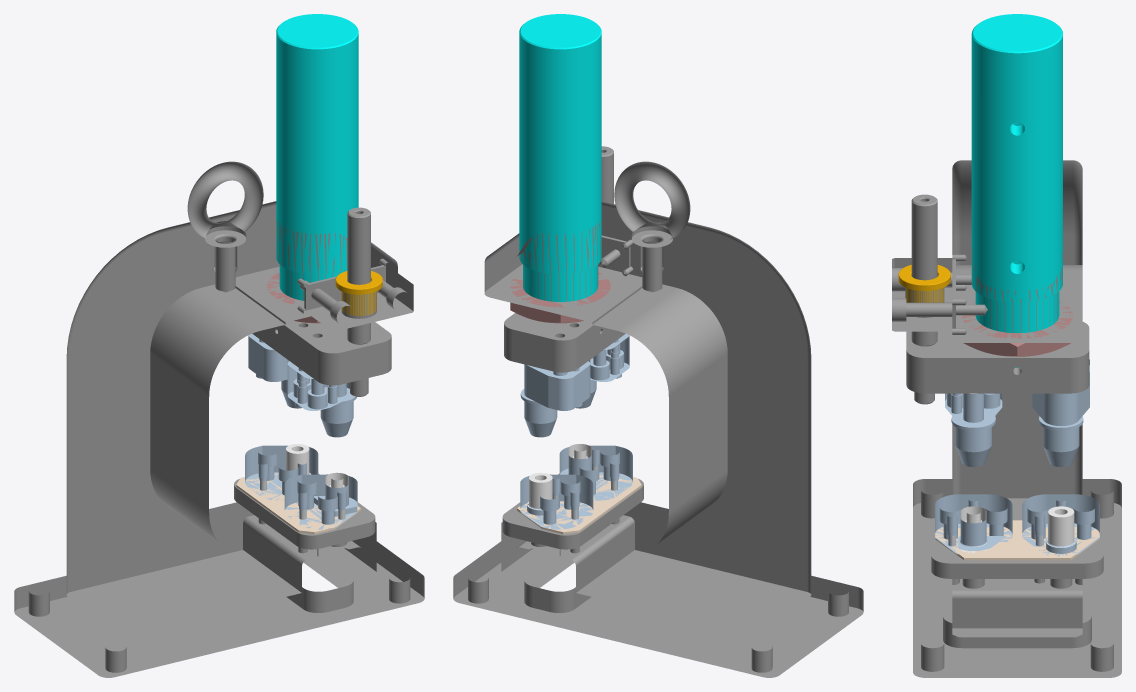
Rendered from hydraulic_press_detail.glb.
The picture shows the model from 3 angles, left to right: view 1: azimuth 30°, elevation 25°; view 2: azimuth 150°, elevation 25°; view 3: azimuth 270°, elevation 25°; orthographic projection. The views are drawn at different scales.
Parts seen in each view (by area): view 1: Hydraulic Twin Punch Press; view 2: Hydraulic Twin Punch Press; view 3: Hydraulic Twin Punch Press.
Boxes of the visible parts, bbox=[...] form: Hydraulic Twin Punch Press: bbox=[14, 14, 424, 677]; Hydraulic Twin Punch Press: bbox=[453, 14, 863, 677]; Hydraulic Twin Punch Press: bbox=[892, 14, 1121, 677].
Size of the model in its own units: 0.318 by 0.516 by 0.176.
